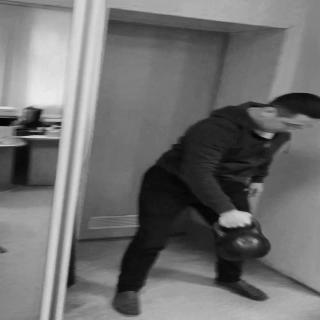kettlebell: (212, 217, 273, 263)
